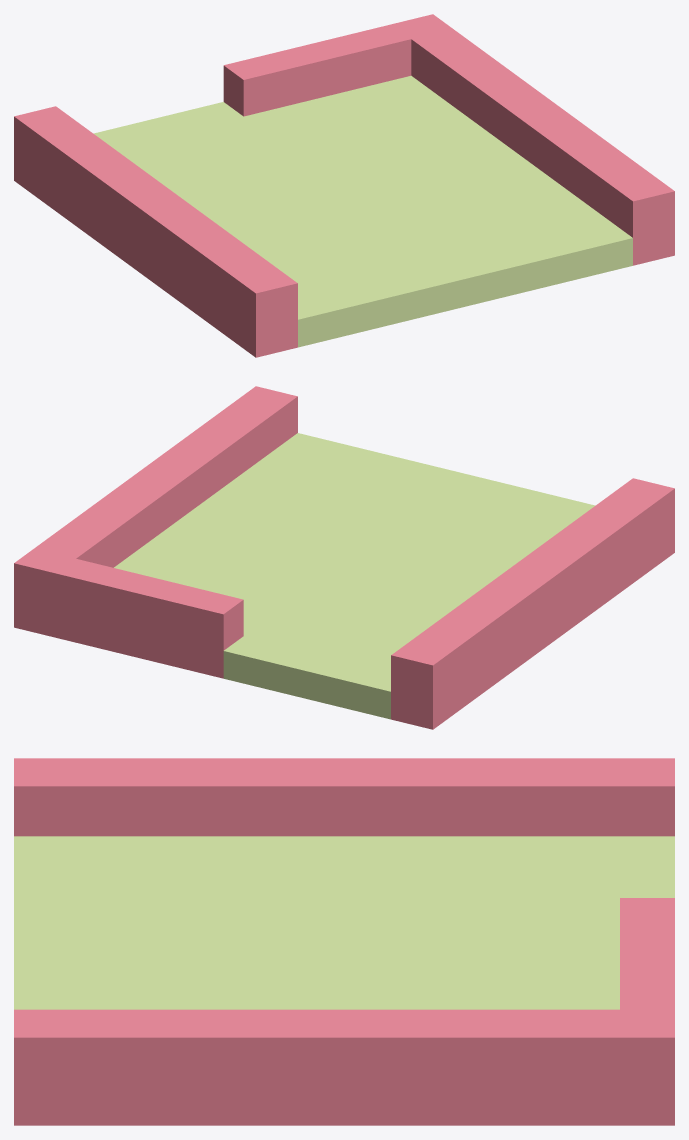
File: wallLeft.fbx
3 views of the same model, one above another, from view 1: azimuth 30°, elevation 25°; view 2: azimuth 150°, elevation 25°; view 3: azimuth 270°, elevation 25° (orthographic). The views are drawn at different scales.
Visible parts, largest first — view 1: wallLeft; view 2: wallLeft; view 3: wallLeft.
Part boxes in pixels (bbox=[...]): wallLeft: bbox=[14, 14, 674, 357]; wallLeft: bbox=[14, 386, 674, 729]; wallLeft: bbox=[14, 758, 674, 1125].
Bounding box in the file's own units: 99.99 × 14.67 × 99.99.
